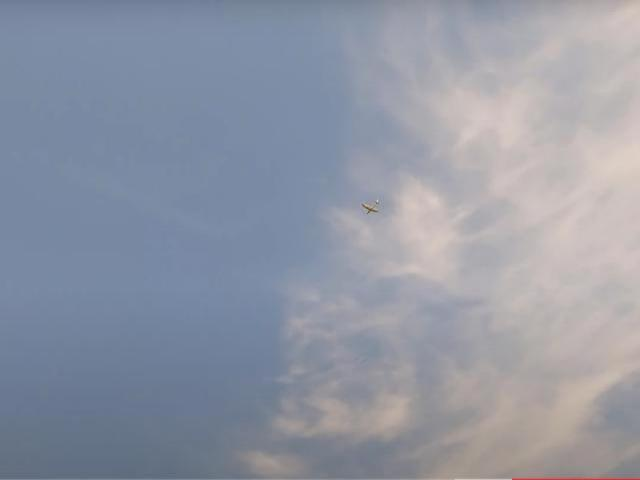iha: (360, 199, 382, 217)
